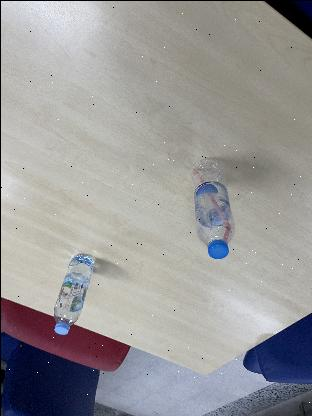Plastic Bottle: (190, 156, 234, 258), (52, 252, 94, 336)
